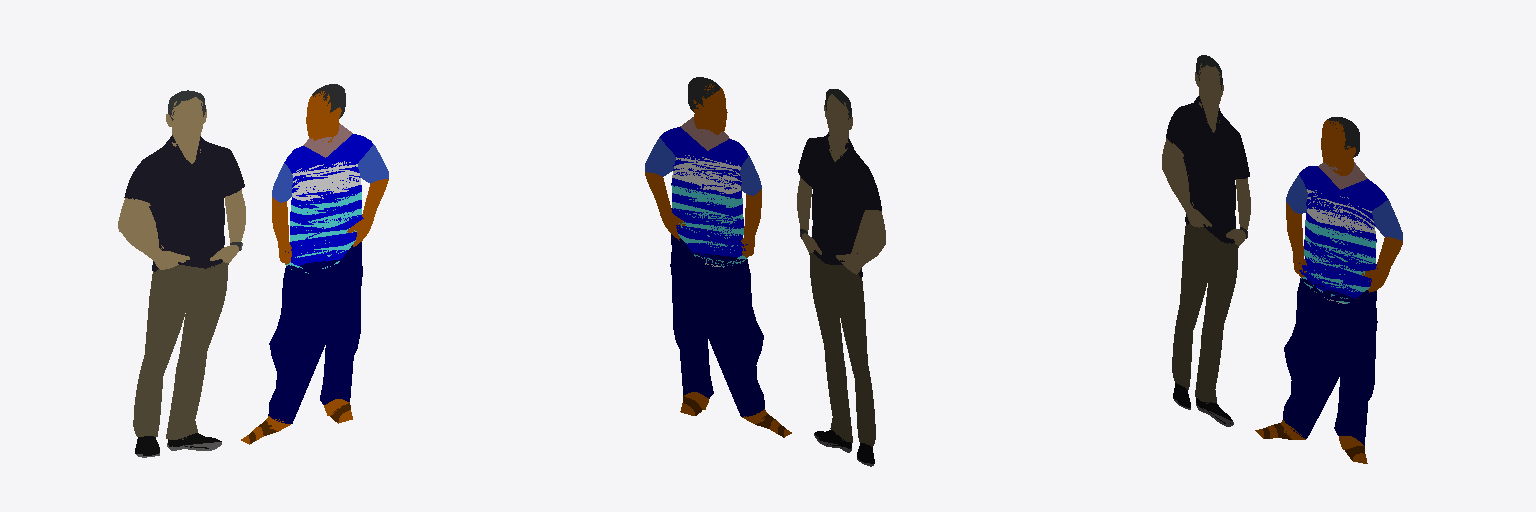
File: Mans_Planos.obj
3 views of the same model, side by side, from view 1: azimuth 30°, elevation 25°; view 2: azimuth 150°, elevation 25°; view 3: azimuth 330°, elevation 25° (orthographic).
Parts seen in each view (by area): view 1: Mesh2 Chris1 Model, Mesh1 Group1 Model; view 2: Mesh1 Group1 Model, Mesh2 Chris1 Model; view 3: Mesh1 Group1 Model, Mesh2 Chris1 Model.
Part boxes in pixels (left/top/right/bottom): Mesh2 Chris1 Model: left=118, top=90, right=245, bottom=457; Mesh1 Group1 Model: left=241, top=84, right=388, bottom=444; Mesh1 Group1 Model: left=645, top=77, right=791, bottom=437; Mesh2 Chris1 Model: left=797, top=89, right=885, bottom=466; Mesh1 Group1 Model: left=1255, top=117, right=1402, bottom=463; Mesh2 Chris1 Model: left=1162, top=55, right=1250, bottom=426.
Size of the model in its own units: 130 by 178 by 17.03.